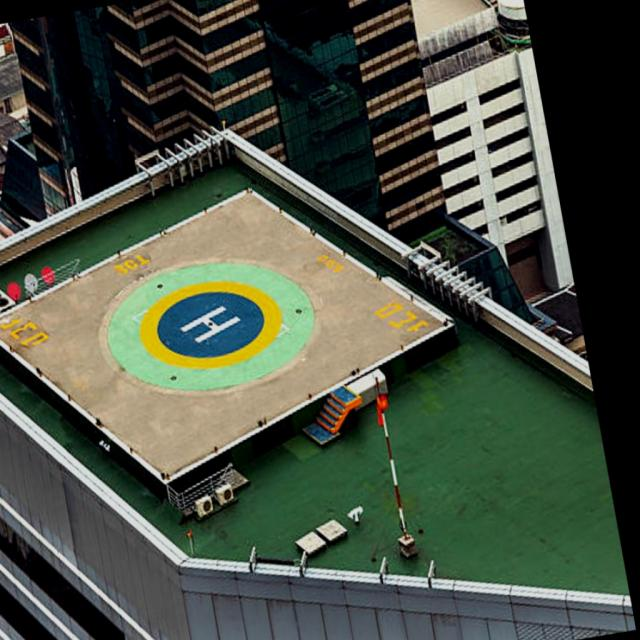helipad: (137, 277, 286, 372)
